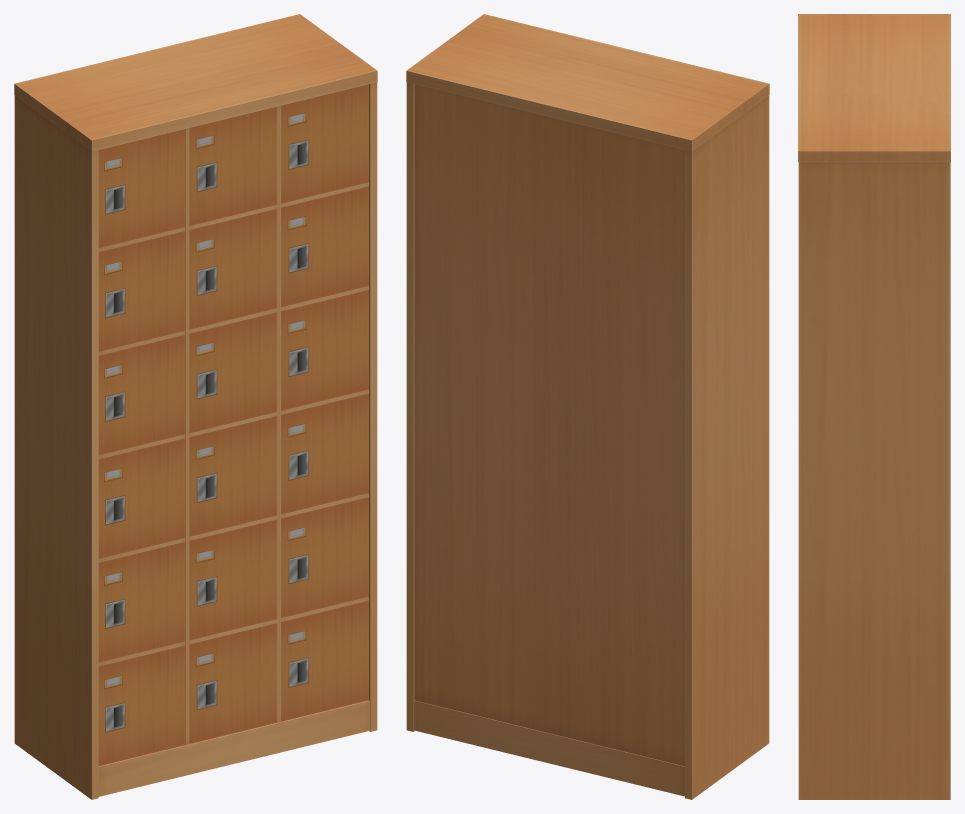
The model's file is set_shoecupboard_b_09.fbx.
3 views of the same model, side by side, from view 1: azimuth 30°, elevation 25°; view 2: azimuth 150°, elevation 25°; view 3: azimuth 270°, elevation 25° (orthographic).
Visible parts, largest first — view 1: shoecupboard_b_09, door_b_09_11, door_b_09_09, door_b_09_08, door_b_09_10, door_b_09_12, door_b_09_16, door_b_09_14, door_b_09_18, door_b_09_02, door_b_09_04, door_b_09_05 (+7 smaller); view 2: shoecupboard_b_09; view 3: shoecupboard_b_09.
Boxes of the visible parts, bbox=[...] form: shoecupboard_b_09: bbox=[14, 14, 377, 799]; door_b_09_11: bbox=[189, 519, 277, 640]; door_b_09_09: bbox=[189, 312, 277, 433]; door_b_09_08: bbox=[189, 208, 277, 329]; door_b_09_10: bbox=[189, 416, 277, 536]; door_b_09_12: bbox=[189, 623, 277, 743]; door_b_09_16: bbox=[281, 393, 368, 514]; door_b_09_14: bbox=[281, 186, 368, 307]; door_b_09_18: bbox=[281, 600, 368, 721]; door_b_09_02: bbox=[98, 231, 185, 351]; door_b_09_04: bbox=[98, 438, 185, 558]; door_b_09_05: bbox=[98, 542, 185, 662]; shoecupboard_b_09: bbox=[406, 14, 769, 799]; shoecupboard_b_09: bbox=[798, 14, 950, 799].
Bounding box in the file's own units: 79.39 × 175 × 37.38.
